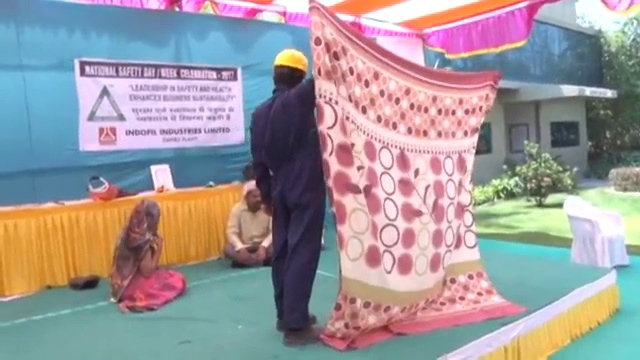helmet: (273, 47, 309, 74)
helmet_off: (133, 199, 160, 226), (244, 178, 263, 212)
helmet_on: (272, 46, 311, 90)
person: (253, 46, 334, 341), (106, 198, 186, 311), (223, 178, 276, 262)
